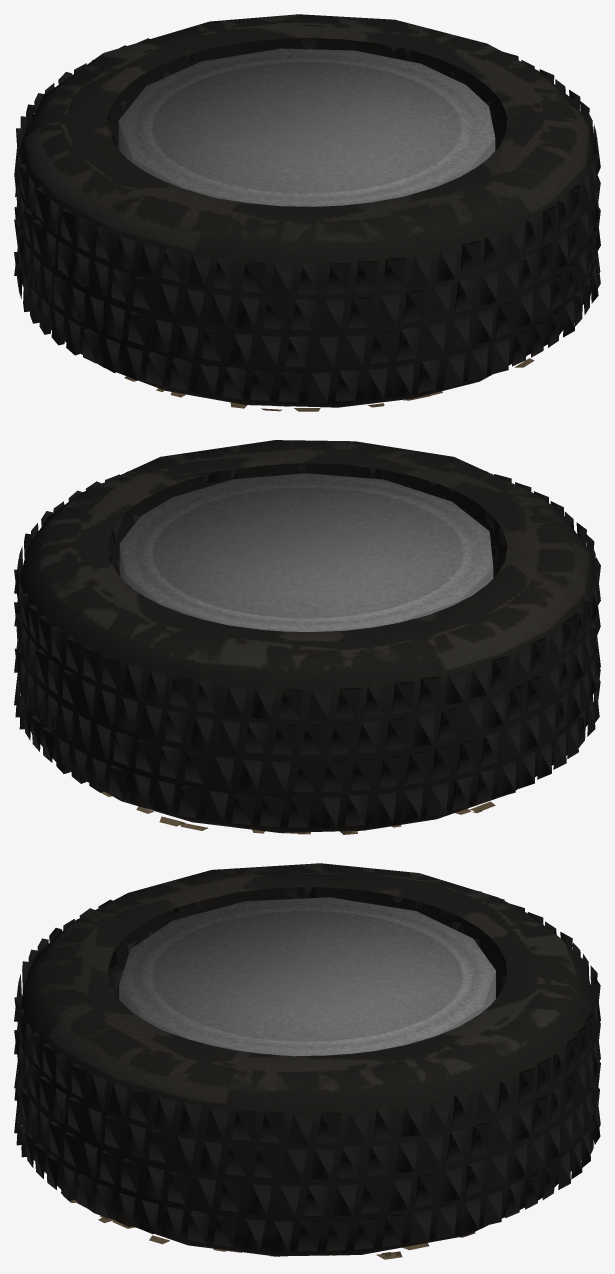
The model's file is pickup_wheel_rear_right.obj.
3 views of the same model, one above another, from view 1: azimuth 30°, elevation 25°; view 2: azimuth 150°, elevation 25°; view 3: azimuth 270°, elevation 25° (orthographic).
Visible parts, largest first — view 1: PIECE_L6_wheel_-1.53_-1; view 2: PIECE_L6_wheel_-1.53_-1; view 3: PIECE_L6_wheel_-1.53_-1.
Boxes of the visible parts, x1=… form: PIECE_L6_wheel_-1.53_-1: x1=14, y1=14, x2=600, y2=411; PIECE_L6_wheel_-1.53_-1: x1=14, y1=440, x2=600, y2=834; PIECE_L6_wheel_-1.53_-1: x1=14, y1=863, x2=600, y2=1259.
Size of the model in its own units: 0.72 by 0.2806 by 0.72.
Materials: 1 (1 with a texture image).
